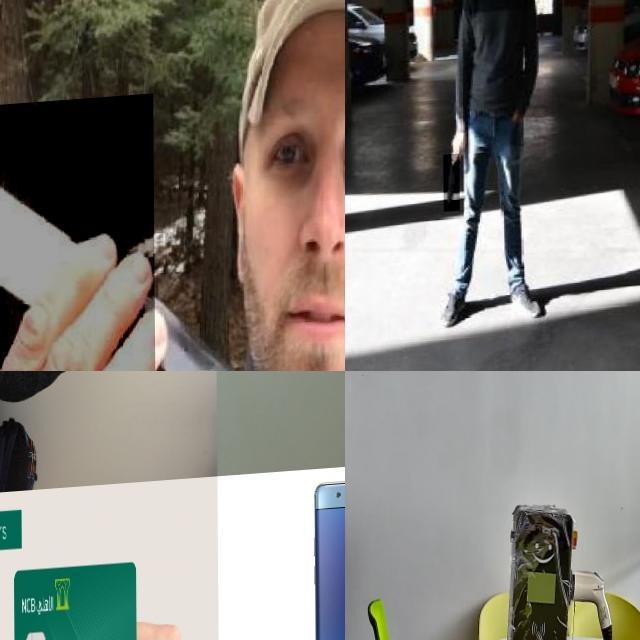-: (0, 97, 154, 371), (443, 158, 459, 216)
gun-knife-thesis - v11 Yolov5 augmented: (345, 469, 369, 577)
